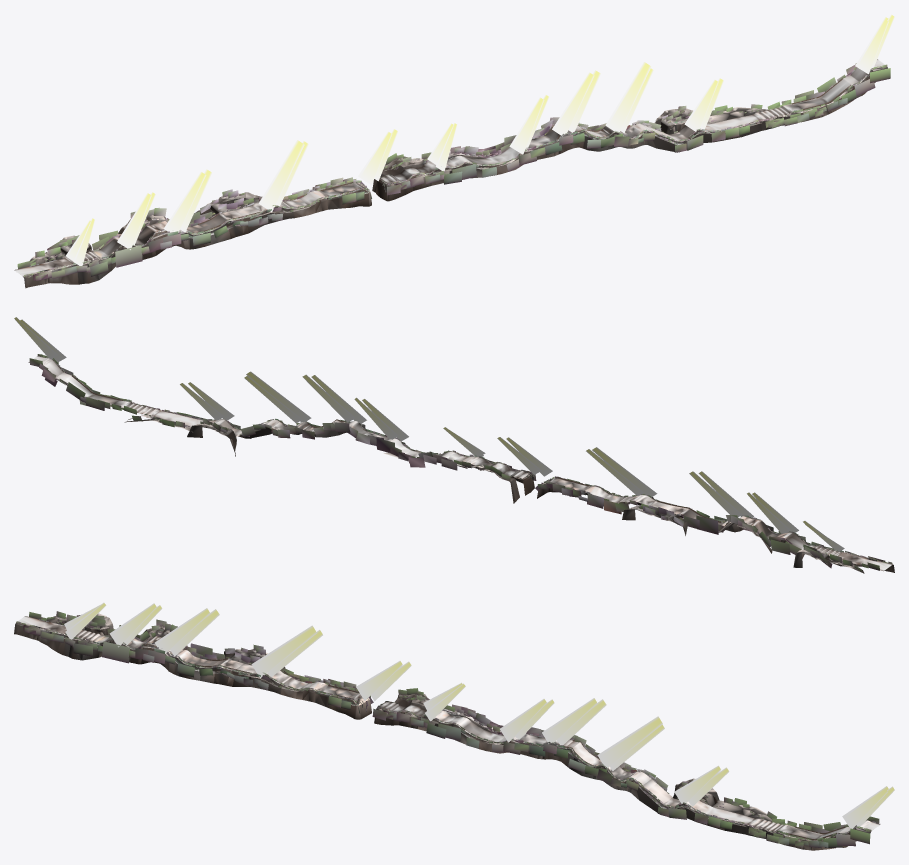
The model's file is Forest_10.fbx.
3 views of the same model, one above another, from view 1: azimuth 30°, elevation 25°; view 2: azimuth 150°, elevation 25°; view 3: azimuth 330°, elevation 25° (orthographic).
Parts seen in each view (by area): view 1: Tree_01, Light_01, Mountain_01, Ground_01; view 2: Tree_01, Light_01, Ground_01, Mountain_01; view 3: Tree_01, Light_01, Mountain_01, Ground_01.
Part boxes in pixels (bbox=[...]): Tree_01: bbox=[17, 63, 890, 280]; Light_01: bbox=[65, 14, 894, 265]; Mountain_01: bbox=[23, 67, 887, 288]; Ground_01: bbox=[14, 59, 884, 276]; Tree_01: bbox=[28, 354, 892, 571]; Light_01: bbox=[14, 317, 844, 551]; Ground_01: bbox=[33, 356, 892, 570]; Mountain_01: bbox=[39, 356, 894, 573]; Tree_01: bbox=[16, 611, 880, 848]; Light_01: bbox=[64, 602, 894, 828]; Mountain_01: bbox=[14, 613, 870, 850]; Ground_01: bbox=[18, 616, 879, 840].
Bounding box in the file's own units: 80546 × 8197 × 4211.
